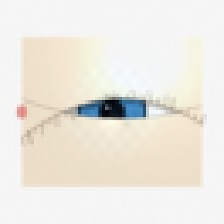hemorrhage_spot: (63, 91, 143, 154)
